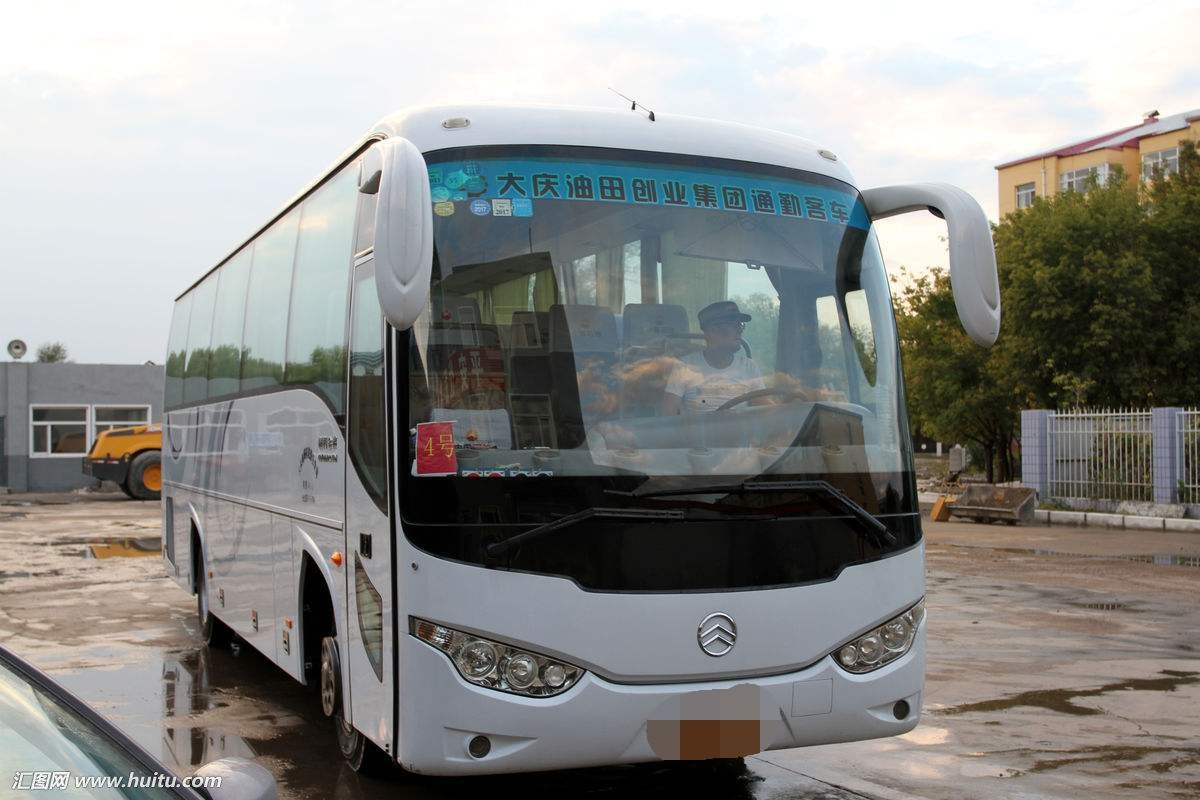bus: (134, 93, 970, 777)
